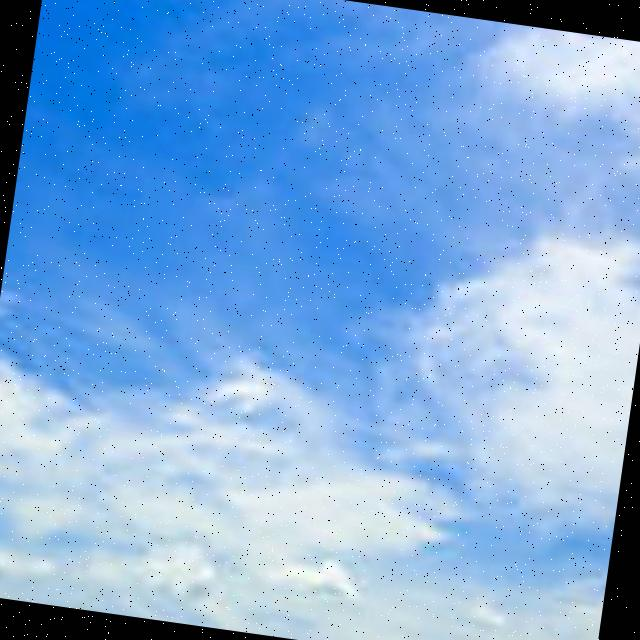As: (1, 151, 640, 640)
